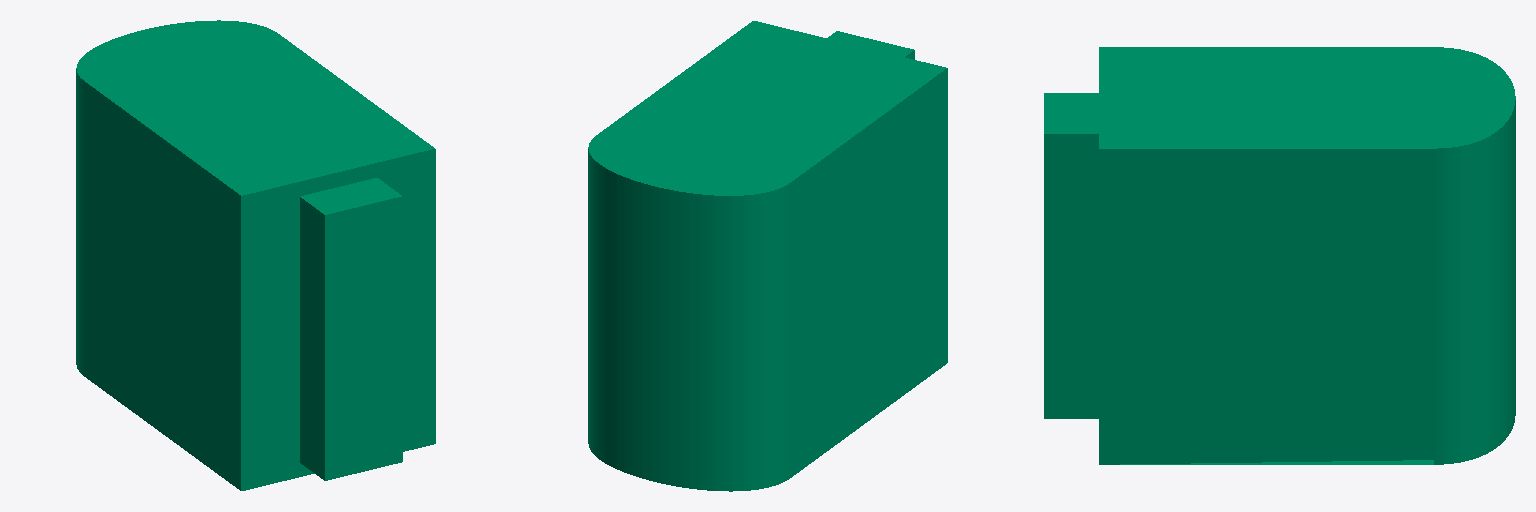
URDF robot description (2v2_70.30_50.50_1.1_53):
<?xml version="1.0" ?>
<robot name="2v2_70.30_50.50_1.1_53">

    <link name="palm">
        <visual>
            <origin rpy="0 0 0" xyz="0 0 0"/>
            <geometry>
                <mesh filename="obj_files/palm.obj" scale="1 1 1"/>
            </geometry>
        </visual>
        <collision>
            <geometry>
                <mesh filename="obj_files/palm_collision.obj" scale="1 1 1"/>
            </geometry>
        </collision>
    </link>

    <link name="finger0_segment0">
        <visual>
            <origin rpy="0 0 0" xyz="0 0 0"/>
            <geometry>
                <mesh filename="obj_files/finger0_segment0.obj" scale="1 1 1"/>
            </geometry>
        </visual>
        <collision>
            <geometry>
                <mesh filename="obj_files/finger0_segment0_collision.obj" scale="1 1 1"/>
            </geometry>
        </collision>
    </link>

    <joint name="finger0_segment0_joint" type="revolute">
        <parent link="palm"/>
        <child link="finger0_segment0"/>
        <origin rpy="0 0 0" xyz="0.02675 0 0.0"/>
        <axis xyz="0 0 1"/>
        <limit effort="1000.0" lower="-3.14" upper="3.14" velocity="0.5"/>
    </joint>

    <link name="finger0_segment1">
        <visual>
            <origin rpy="0 0 0" xyz="0 0 0"/>
            <geometry>
                <mesh filename="obj_files/finger0_segment1.obj" scale="1 1 1"/>
            </geometry>
        </visual>
        <collision>
            <geometry>
                <mesh filename="obj_files/finger0_segment1_collision.obj" scale="1 1 1"/>
            </geometry>
        </collision>
    </link>

    <joint name="finger0_segment1_joint" type="revolute">
        <parent link="finger0_segment0"/>
        <child link="finger0_segment1"/>
        <origin rpy="0 0 0" xyz="0 0.1008 0"/>
        <axis xyz="0 0 1"/>
        <limit effort="1000.0" lower="-3.14" upper="3.14" velocity="0.5"/>
    </joint>

    <link name="finger1_segment0">
        <visual>
            <origin rpy="0 0 0" xyz="0 0 0"/>
            <geometry>
                <mesh filename="obj_files/finger1_segment0.obj" scale="1 1 1"/>
            </geometry>
        </visual>
        <collision>
            <geometry>
                <mesh filename="obj_files/finger1_segment0_collision.obj" scale="1 1 1"/>
            </geometry>
        </collision>
    </link>

    <joint name="finger1_segment0_joint" type="revolute">
        <parent link="palm"/>
        <child link="finger1_segment0"/>
        <origin rpy="0 0 0" xyz="-0.02675 0 3.27593018771917e-18"/>
        <axis xyz="0 0 1"/>
        <limit effort="1000.0" lower="-3.14" upper="3.14" velocity="0.5"/>
    </joint>

    <link name="finger1_segment1">
        <visual>
            <origin rpy="0 0 0" xyz="0 0 0"/>
            <geometry>
                <mesh filename="obj_files/finger1_segment1.obj" scale="1 1 1"/>
            </geometry>
        </visual>
        <collision>
            <geometry>
                <mesh filename="obj_files/finger1_segment1_collision.obj" scale="1 1 1"/>
            </geometry>
        </collision>
    </link>

    <joint name="finger1_segment1_joint" type="revolute">
        <parent link="finger1_segment0"/>
        <child link="finger1_segment1"/>
        <origin rpy="0 0 0" xyz="0 0.072 0"/>
        <axis xyz="0 0 1"/>
        <limit effort="1000.0" lower="-3.14" upper="3.14" velocity="0.5"/>
    </joint>

</robot>

--- Render facts (derived) ---
The picture shows the robot from 3 angles, left to right: view 1: azimuth 30°, elevation 25°; view 2: azimuth 150°, elevation 25°; view 3: azimuth 270°, elevation 25°; orthographic projection.
Robot: 2v2_70.30_50.50_1.1_53 — 5 links, 4 joints (4 revolute); root link palm; default pose: all joints at 0.
Links seen in each view (by area): view 1: finger0_segment1; view 2: finger0_segment1; view 3: finger0_segment1.
Link boxes in pixels (<box>): finger0_segment1: <box>76,20,435,490</box>; finger0_segment1: <box>588,21,947,491</box>; finger0_segment1: <box>1044,47,1515,464</box>.
Size in the robot's own frame: 0.022 by 0.0432 by 0.032 metres.
1 mesh visuals loaded from 5 distinct referenced files (1 OBJ); not drawn: 4 (reference not matched to a file when rendering).